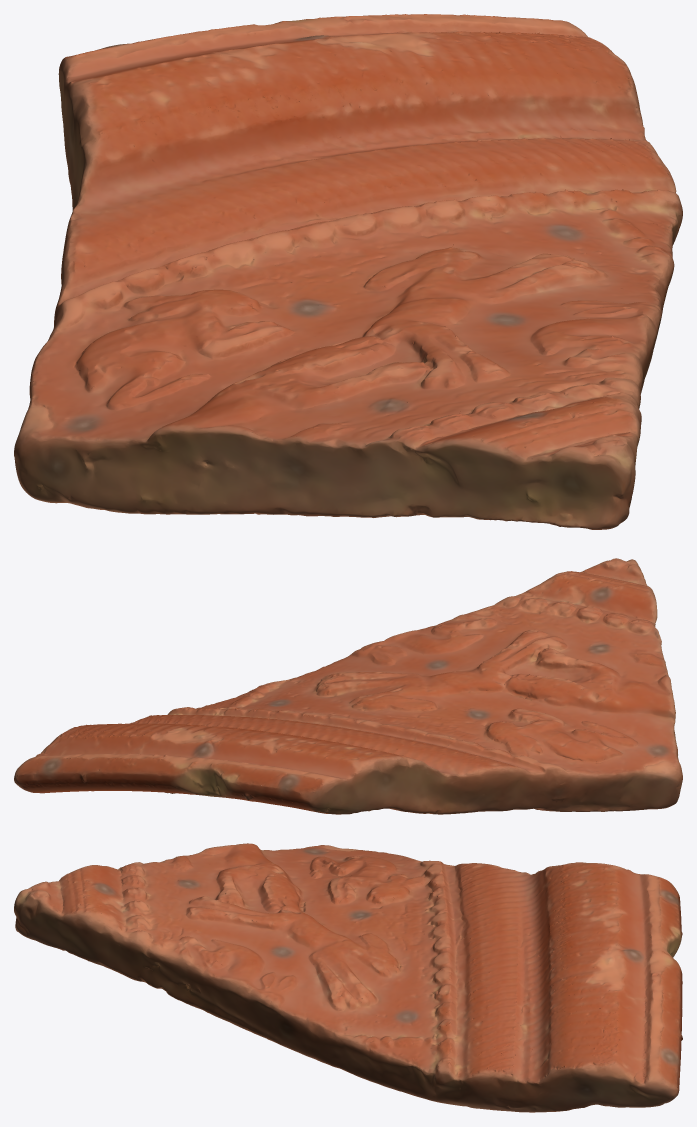
3 views of the same model, one above another, from view 1: azimuth 30°, elevation 25°; view 2: azimuth 150°, elevation 25°; view 3: azimuth 270°, elevation 25° (orthographic). The views are drawn at different scales.
Visible parts, largest first — view 1: 2004_7_7211_3; view 2: 2004_7_7211_3; view 3: 2004_7_7211_3.
Boxes of the visible parts, x1,y1,x2,y2 form: 2004_7_7211_3: (14, 14, 682, 529); 2004_7_7211_3: (14, 558, 682, 814); 2004_7_7211_3: (14, 843, 682, 1112).
Size of the model in its own units: 0.5457 by 0.1177 by 0.6254.
